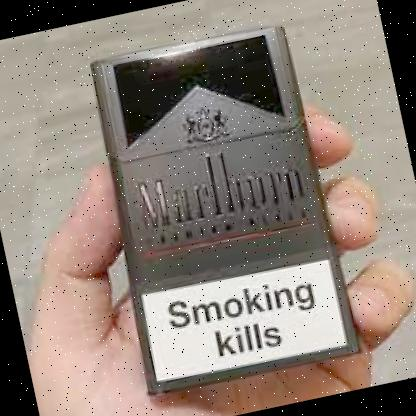bungkus rokok: (70, 7, 360, 397)
